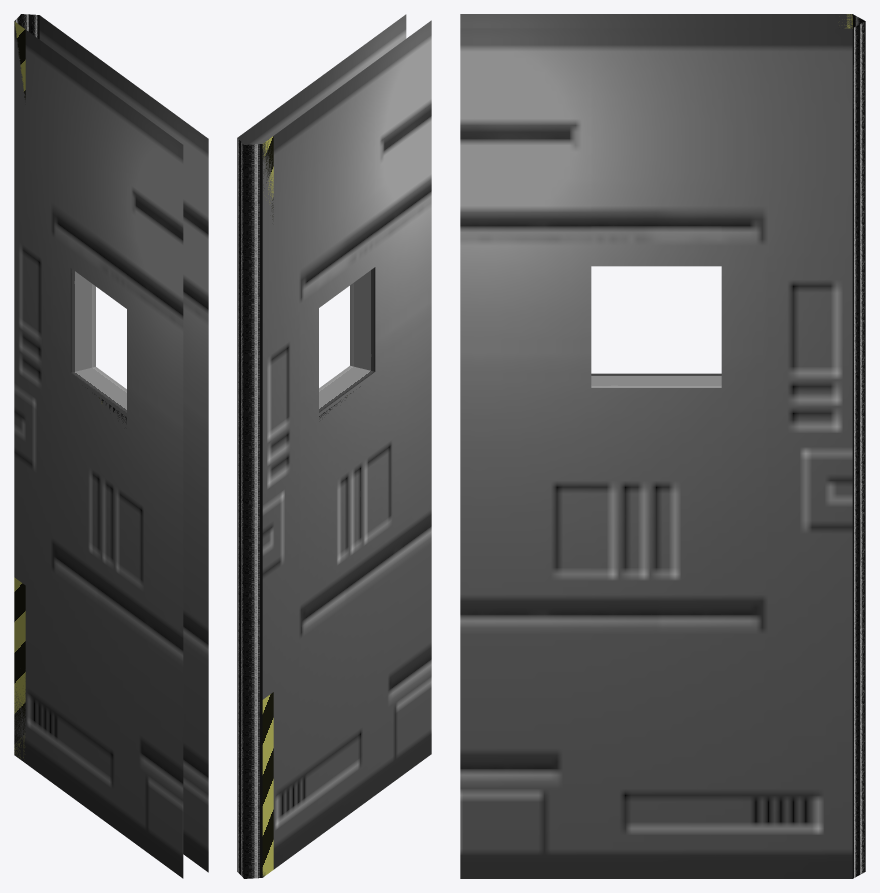
File: primary_151.glb
3 views of the same model, side by side, from view 1: azimuth 30°, elevation 25°; view 2: azimuth 150°, elevation 25°; view 3: azimuth 270°, elevation 25° (orthographic). The views are drawn at different scales.
Parts seen in each view (by area): view 1: Object; view 2: Object; view 3: Object.
Boxes of the visible parts, bbox=[...] form: Object: bbox=[14, 14, 208, 878]; Object: bbox=[237, 14, 431, 878]; Object: bbox=[460, 14, 865, 878].
Bounding box in the file's own units: 0.1049 × 2.92 × 1.26.
Materials: 7 (7 with a texture image).
